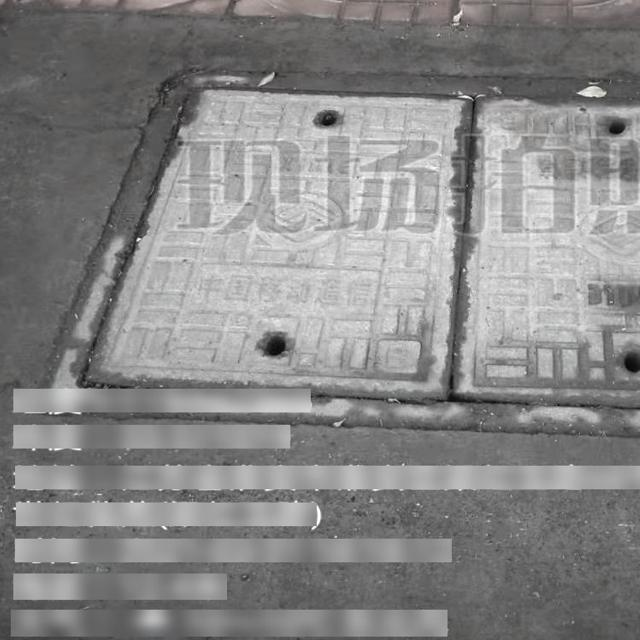good: (49, 69, 640, 447)
